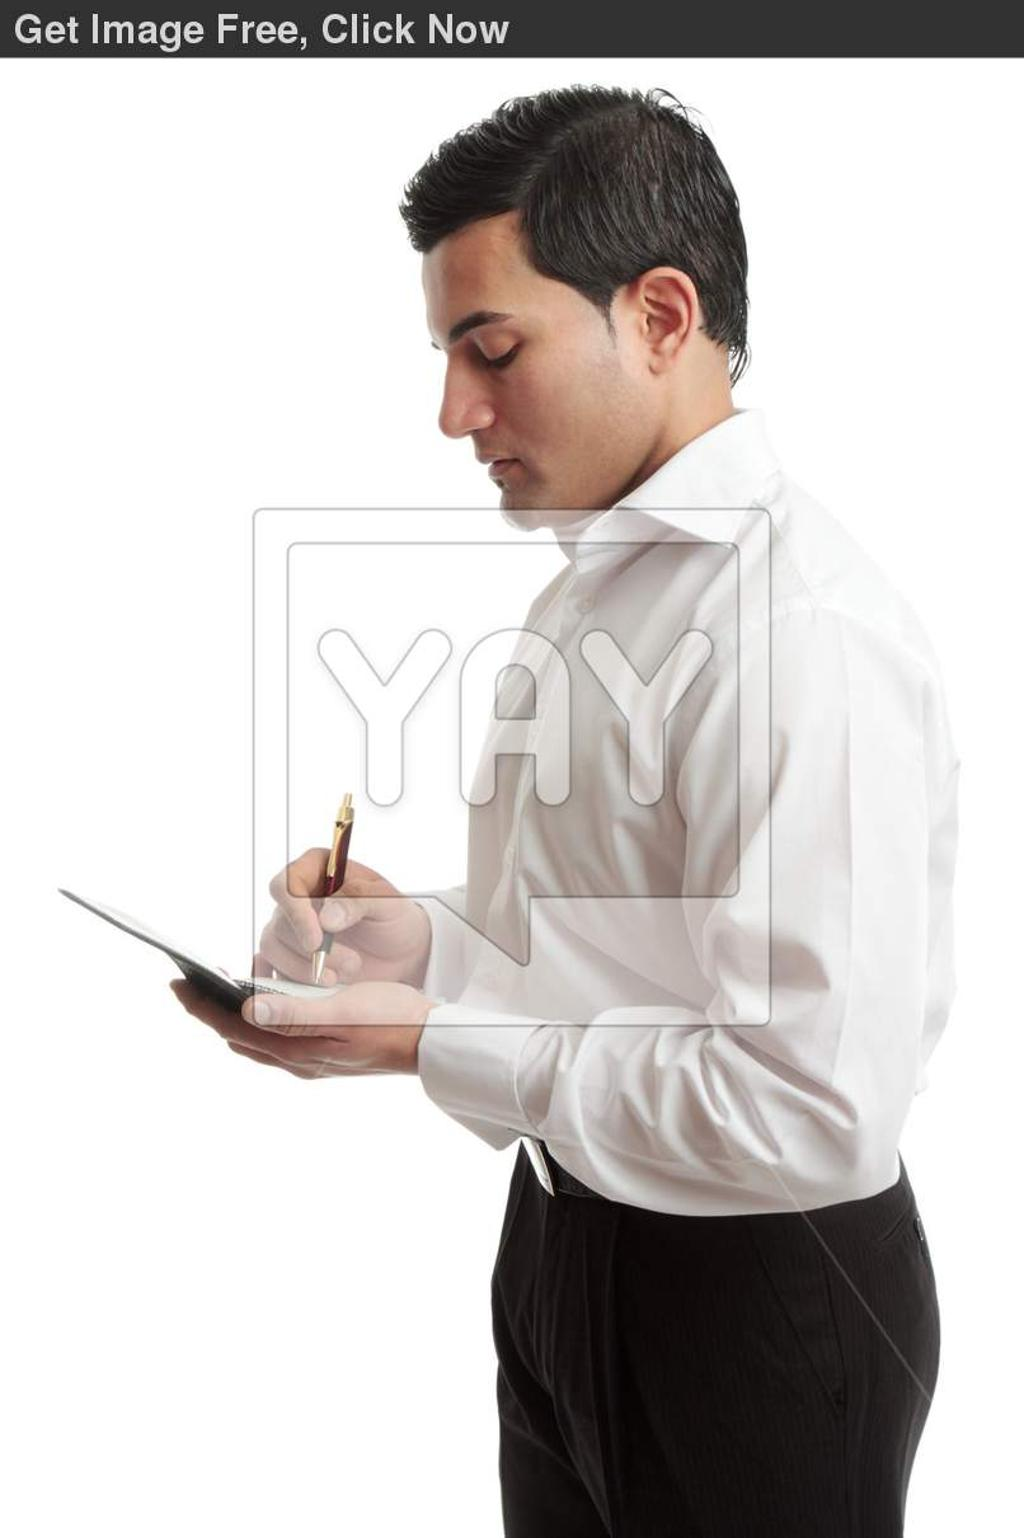face: (420, 222, 657, 522)
